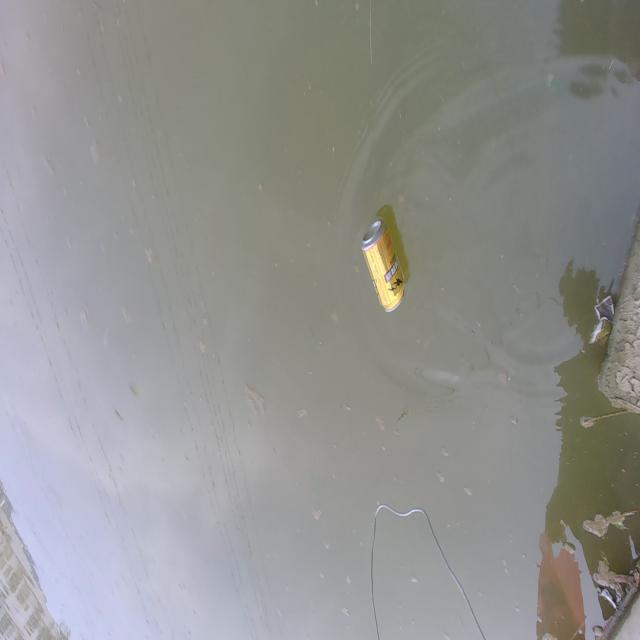garbage: (361, 217, 405, 313)
